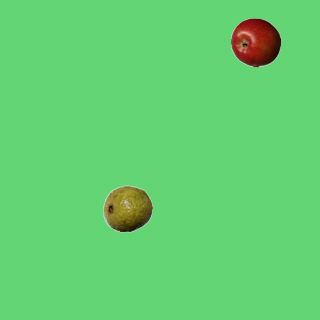Apple Braeburn: (230, 17, 280, 67)
Guava: (102, 183, 152, 233)
